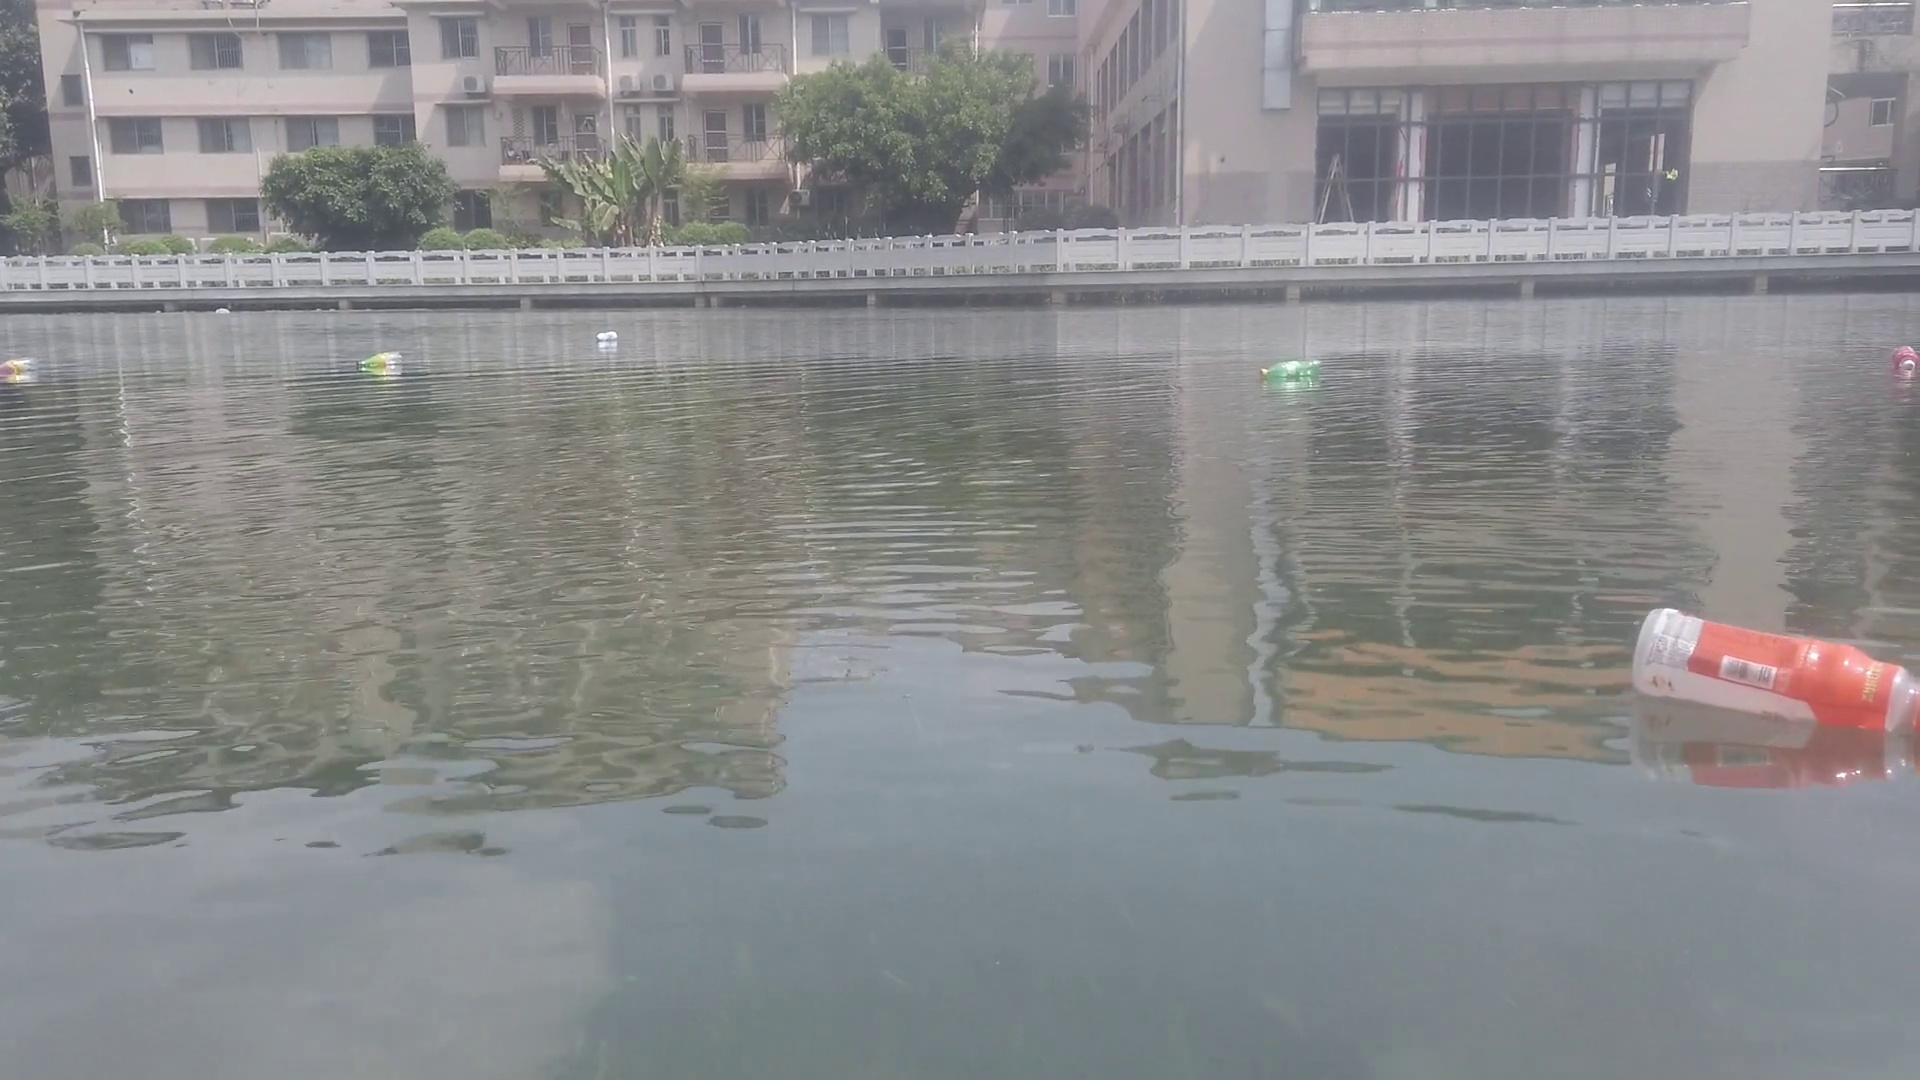bottle: (1631, 608, 1920, 732), (1259, 360, 1324, 380), (1892, 344, 1919, 375), (353, 349, 404, 364), (1, 356, 42, 371), (597, 328, 620, 340)
plastic: (212, 306, 227, 316)
